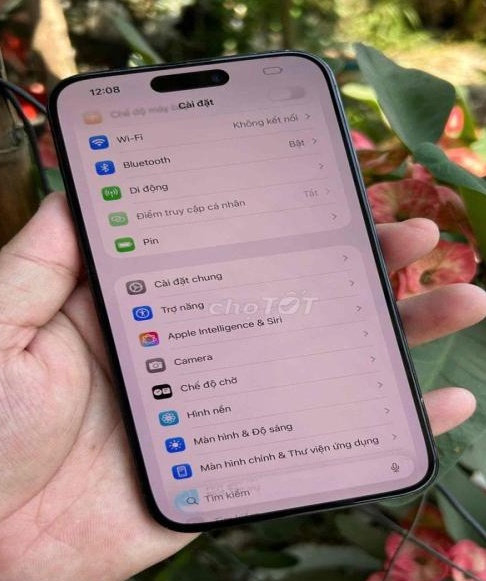scratch: (413, 392, 428, 405), (282, 46, 292, 52)
